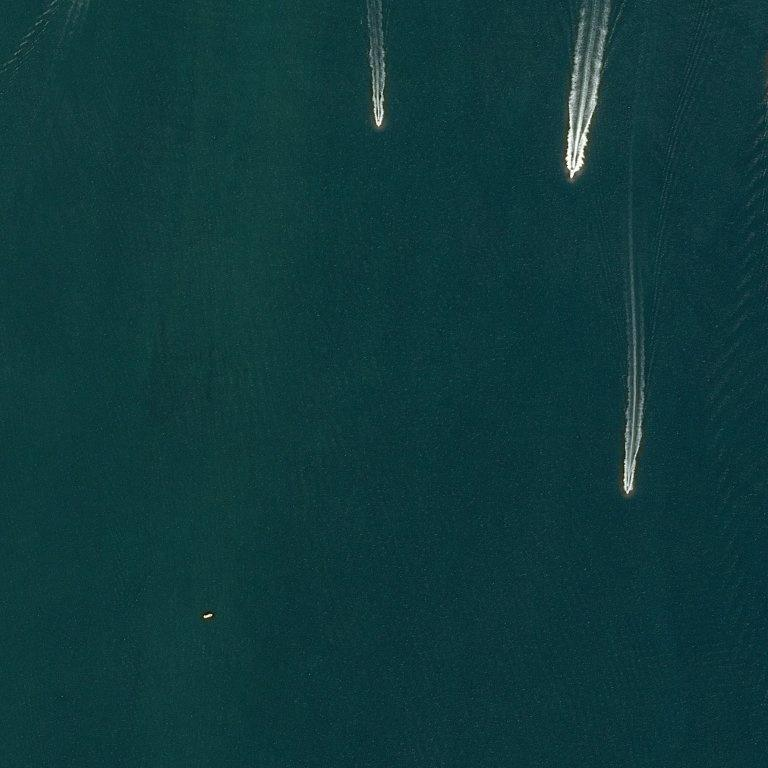ship: (376, 43, 382, 50), (569, 173, 576, 177), (570, 177, 573, 180), (626, 493, 629, 495), (617, 490, 622, 491), (567, 170, 569, 172), (625, 464, 627, 466), (211, 613, 213, 615), (203, 618, 205, 619), (378, 126, 379, 127), (377, 121, 377, 123), (380, 122, 381, 122), (574, 2, 574, 3), (628, 488, 628, 488), (205, 616, 210, 616), (50, 614, 50, 615)
